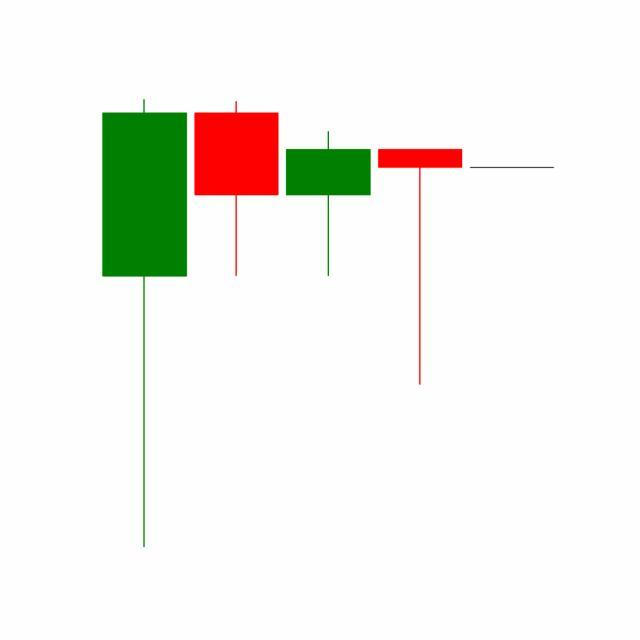Hanging Man: (374, 146, 468, 388)
